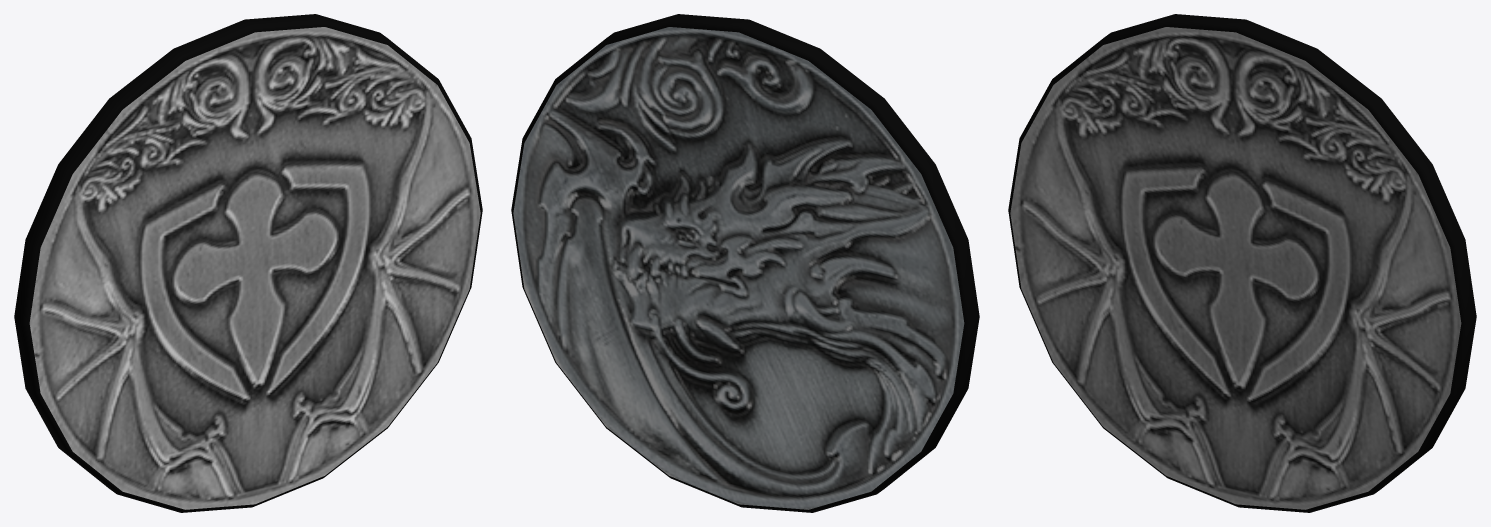
3 views of the same model, side by side, from view 1: azimuth 30°, elevation 25°; view 2: azimuth 150°, elevation 25°; view 3: azimuth 330°, elevation 25° (orthographic).
Parts seen in each view (by area): view 1: Mesh_0; view 2: Mesh_0; view 3: Mesh_0.
Boxes of the visible parts, box(x1,y1,x2,y2) form: Mesh_0: box(14, 14, 482, 512); Mesh_0: box(511, 14, 979, 512); Mesh_0: box(1008, 14, 1476, 512).
Bounding box in the file's own units: 182 × 182 × 9.11.
1 material, 1 textured.
